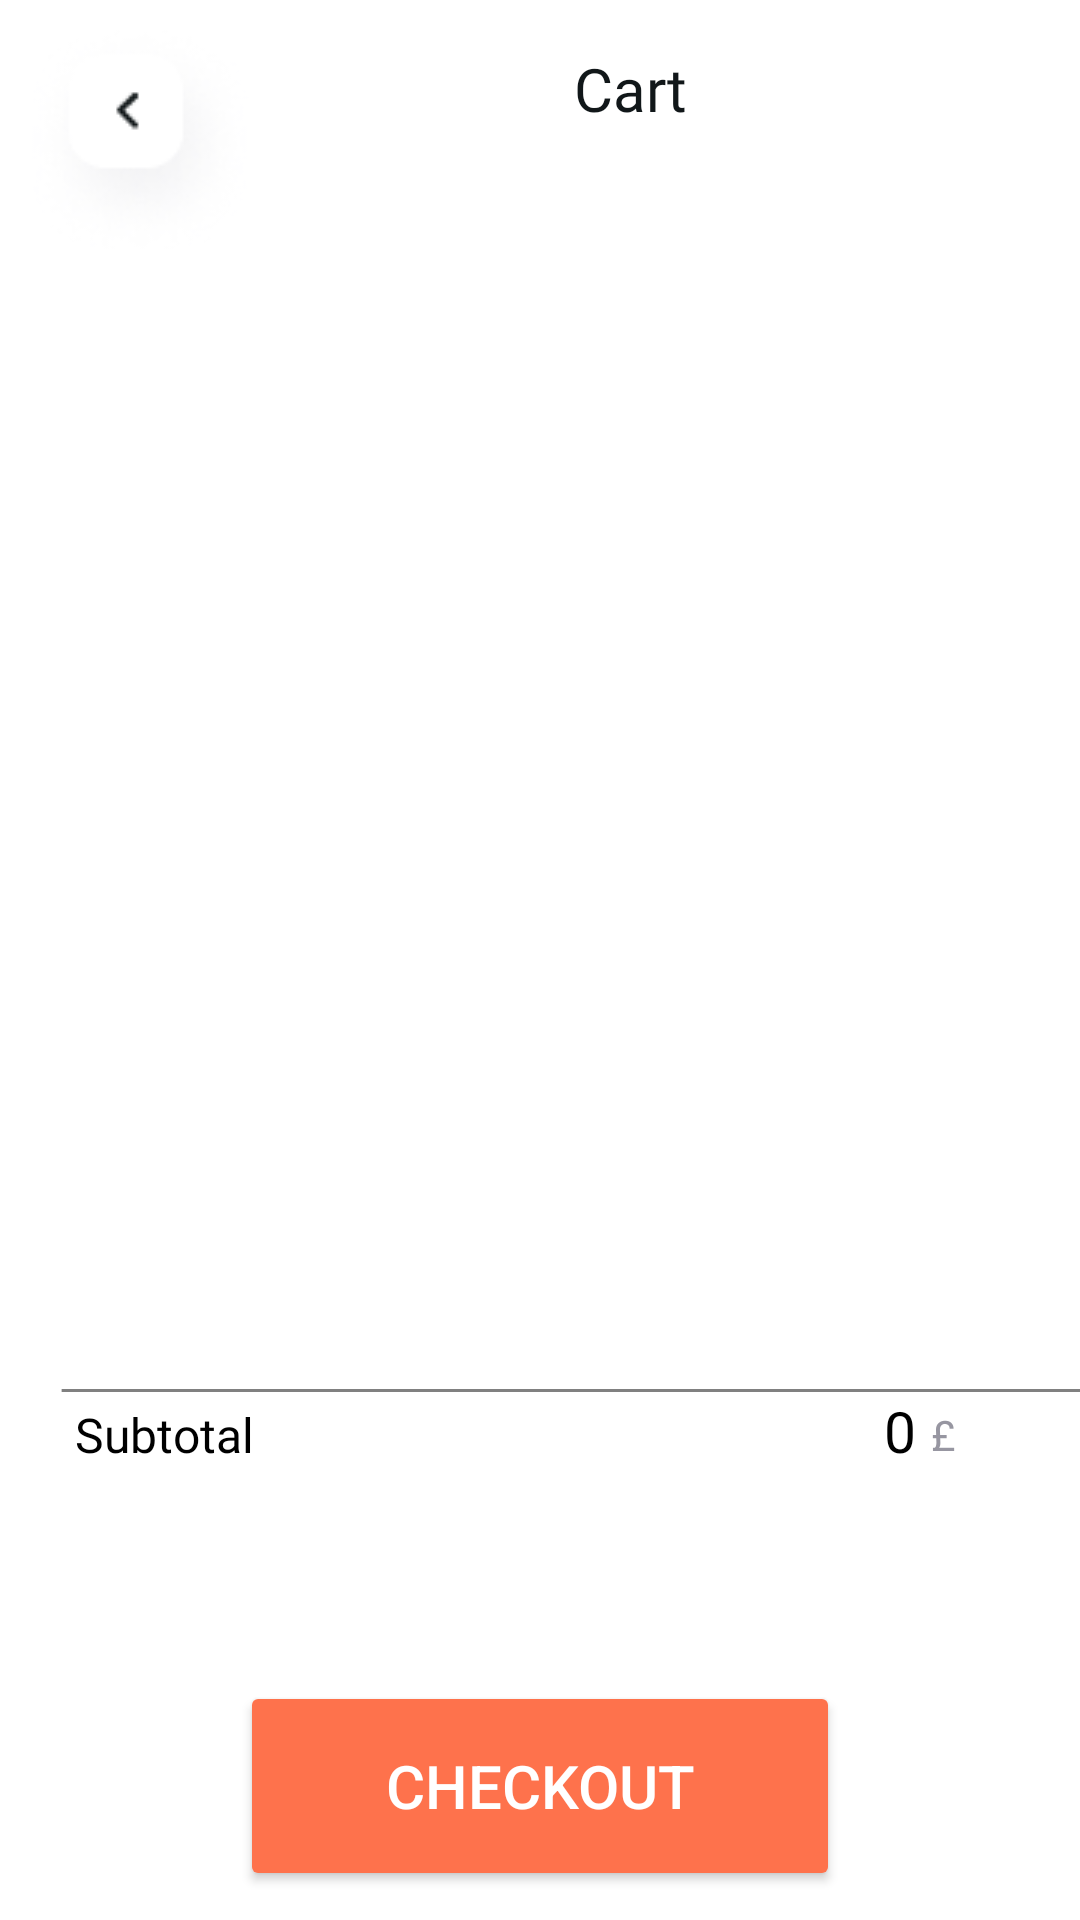

Icon click points for this 1080px x 1920px phone screenshot, format point (x, y):
back: point (127, 111)
